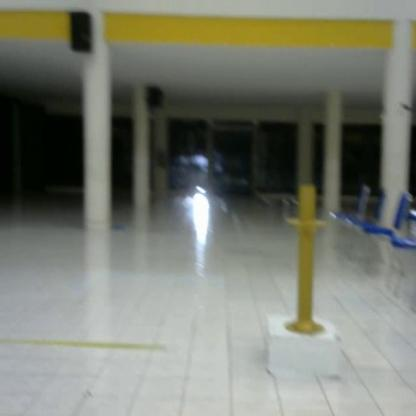pole: (282, 179, 333, 347)
